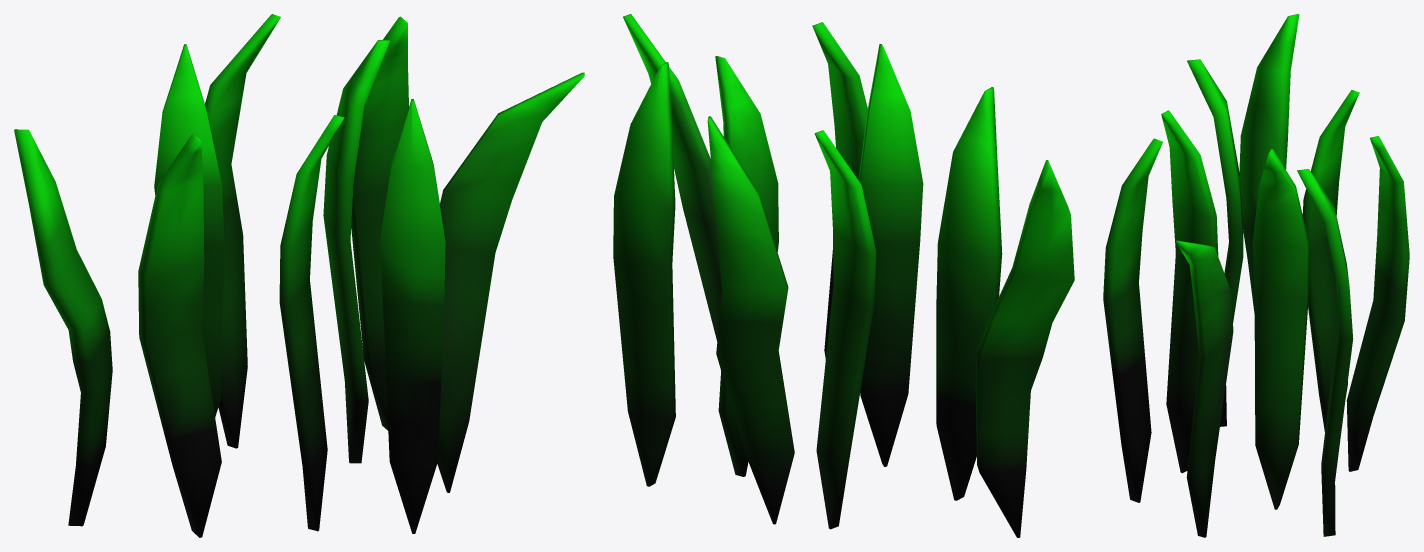
Rendered from Cesped_5.fbx.
3 views of the same model, side by side, from view 1: azimuth 30°, elevation 25°; view 2: azimuth 150°, elevation 25°; view 3: azimuth 270°, elevation 25° (orthographic). The views are drawn at different scales.
Parts seen in each view (by area): view 1: Plane; view 2: Plane; view 3: Plane.
Boxes of the visible parts, x1,y1,x2,y2 form: Plane: (14,14,584,537); Plane: (613,14,1074,537); Plane: (1103,14,1409,537).
Size of the model in its own units: 465 by 376 by 279.
